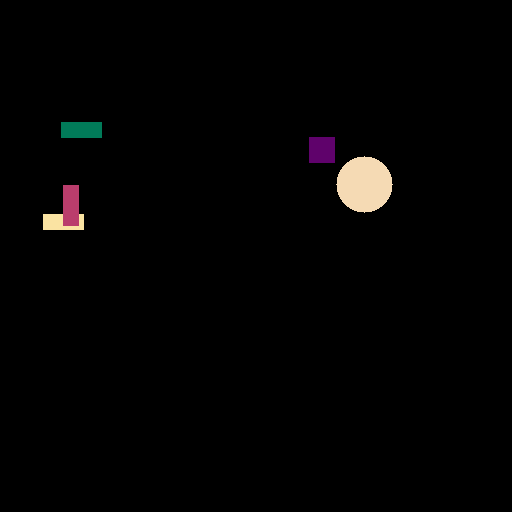circle: (329, 151, 398, 217)
side_rect: (39, 211, 93, 236), (56, 118, 107, 139)
square: (301, 130, 339, 167)
up_rect: (61, 181, 82, 227)
